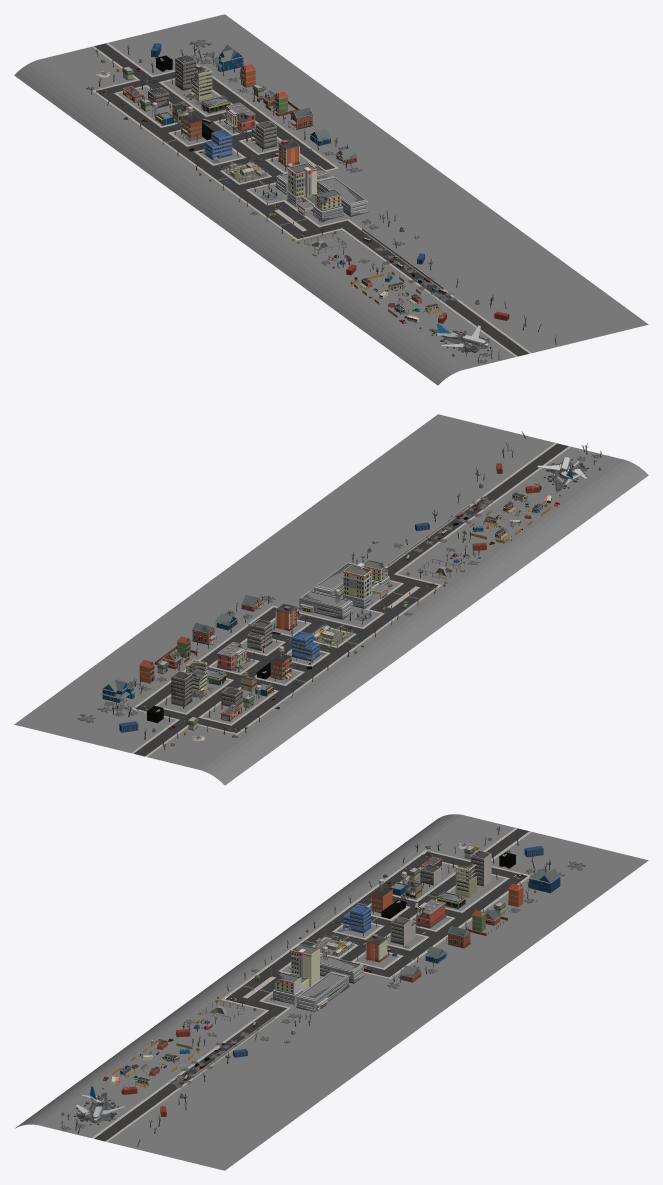
File: _lvl_city_bg_1.glb
The picture shows the model from 3 angles, top to bottom: view 1: azimuth 30°, elevation 25°; view 2: azimuth 150°, elevation 25°; view 3: azimuth 330°, elevation 25°; orthographic projection.
Visible parts, largest first — view 1: bg_ground_1, bg_near_plane_city, SA_Env_Road_Full_1_part_8, SA_Bld_HospitalBuildingMain_Damaged_01, SA_Env_Road_Full_1_part_7, SA_Env_Road_Full_1_part_2, SA_Env_Road_Full_1_part_1, SA_Env_Road_Full_1_part_6, SA_Env_Road_Full_1_part_3, SA_Env_Road_Full_1_part_5, SA_Bld_HospitalOffice_Damaged_01 (2), SA_Bld_TownHall_Damaged_01 (+8 smaller); view 2: bg_ground_1, bg_near_plane_city, SA_Env_Road_Full_1_part_8, SA_Env_Road_Full_1_part_7, SA_Bld_HospitalBuildingMain_Damaged_01, SA_Env_Road_Full_1_part_1, SA_Env_Road_Full_1_part_2, SA_Env_Road_Full_1_part_3, SA_Bld_HospitalOffice_Damaged_01, SA_Env_Road_Full_1_part_6, SA_Env_Road_Full_1_part_5, SA_Env_Road_Full_1_part_4 (+11 smaller); view 3: bg_ground_1, bg_near_plane_city, SA_Env_Road_Full_1_part_8, SA_Bld_HospitalBuildingMain_Damaged_01, SA_Env_Road_Full_1_part_1, SA_Env_Road_Full_1_part_7, SA_Env_Road_Full_1_part_3, SA_Env_Road_Full_1_part_2, SA_Bld_HospitalOffice_Damaged_01 (2), SA_Env_Road_Full_1_part_5, SA_Bld_HospitalOffice_Damaged_01, SA_Bld_TownHall_Damaged_01 (+10 smaller).
Boxes of the visible parts, left/top/right/bottom form: bg_ground_1: left=38, top=14, right=648, bottom=369; bg_near_plane_city: left=14, top=60, right=461, bottom=385; SA_Env_Road_Full_1_part_8: left=341, top=219, right=531, bottom=356; SA_Bld_HospitalBuildingMain_Damaged_01: left=287, top=162, right=343, bottom=222; SA_Env_Road_Full_1_part_7: left=232, top=189, right=347, bottom=240; SA_Env_Road_Full_1_part_2: left=92, top=79, right=202, bottom=142; SA_Env_Road_Full_1_part_1: left=140, top=64, right=258, bottom=122; SA_Env_Road_Full_1_part_6: left=199, top=157, right=276, bottom=192; SA_Env_Road_Full_1_part_3: left=202, top=110, right=307, bottom=157; SA_Env_Road_Full_1_part_5: left=246, top=145, right=338, bottom=177; SA_Bld_HospitalOffice_Damaged_01 (2): left=317, top=176, right=368, bottom=216; SA_Bld_TownHall_Damaged_01: left=222, top=102, right=255, bottom=133; bg_ground_1: left=14, top=414, right=624, bottom=770; bg_near_plane_city: left=201, top=460, right=648, bottom=785; SA_Env_Road_Full_1_part_8: left=384, top=442, right=570, bottom=575; SA_Env_Road_Full_1_part_7: left=362, top=574, right=441, bottom=632; SA_Bld_HospitalBuildingMain_Damaged_01: left=342, top=560, right=392, bottom=608; SA_Env_Road_Full_1_part_1: left=132, top=666, right=240, bottom=722; SA_Env_Road_Full_1_part_2: left=198, top=677, right=308, bottom=734; SA_Env_Road_Full_1_part_3: left=198, top=628, right=291, bottom=677; SA_Bld_HospitalOffice_Damaged_01: left=298, top=590, right=353, bottom=619; SA_Env_Road_Full_1_part_6: left=313, top=618, right=376, bottom=656; SA_Env_Road_Full_1_part_5: left=242, top=605, right=324, bottom=644; SA_Env_Road_Full_1_part_4: left=269, top=653, right=347, bottom=682; bg_ground_1: left=38, top=815, right=648, bottom=1170; bg_near_plane_city: left=15, top=814, right=461, bottom=1128; SA_Env_Road_Full_1_part_8: left=92, top=1008, right=290, bottom=1141; SA_Bld_HospitalBuildingMain_Damaged_01: left=270, top=944, right=319, bottom=1004; SA_Env_Road_Full_1_part_1: left=416, top=863, right=530, bottom=920; SA_Env_Road_Full_1_part_7: left=221, top=952, right=296, bottom=1010; SA_Env_Road_Full_1_part_3: left=364, top=906, right=469, bottom=956; SA_Env_Road_Full_1_part_2: left=354, top=849, right=470, bottom=907; SA_Bld_HospitalOffice_Damaged_01 (2): left=296, top=971, right=349, bottom=1012; SA_Env_Road_Full_1_part_5: left=338, top=940, right=420, bottom=978; SA_Bld_HospitalOffice_Damaged_01: left=320, top=954, right=364, bottom=983; SA_Bld_TownHall_Damaged_01: left=413, top=899, right=445, bottom=928.
Size of the model in its own units: 129 by 26.01 by 450.
1 material, 1 textured.
